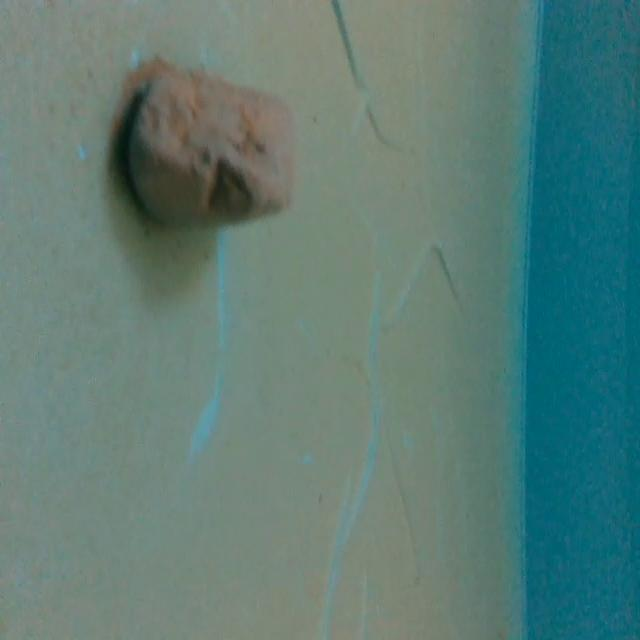rock: (115, 49, 303, 247)
